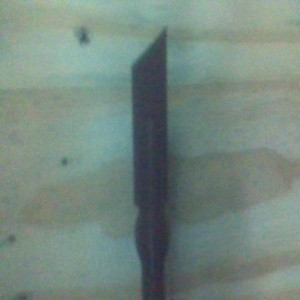cutter: (130, 25, 172, 300)
